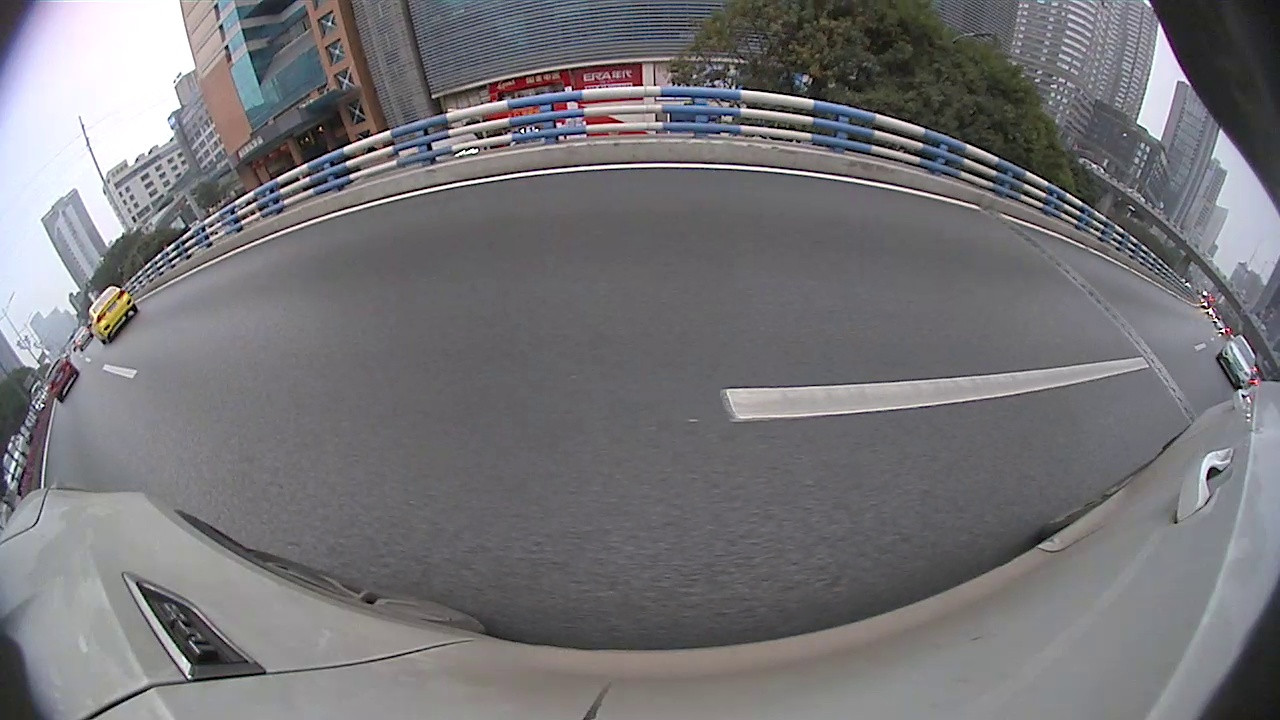bus: (162, 174, 351, 229), (709, 137, 788, 180), (663, 145, 696, 174)
car: (1, 216, 322, 480), (557, 129, 664, 220), (424, 154, 528, 221), (348, 175, 420, 209), (536, 160, 563, 189)
front: (250, 254, 310, 321)
rear: (491, 185, 503, 211)
